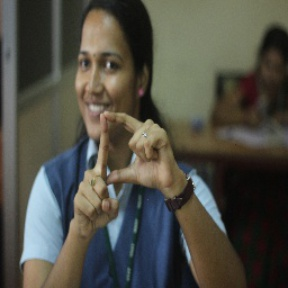D: (84, 106, 172, 198)
